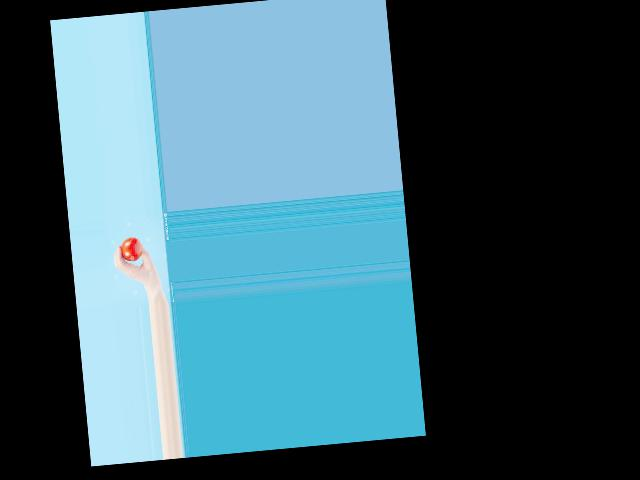tomato: (119, 236, 142, 262)
